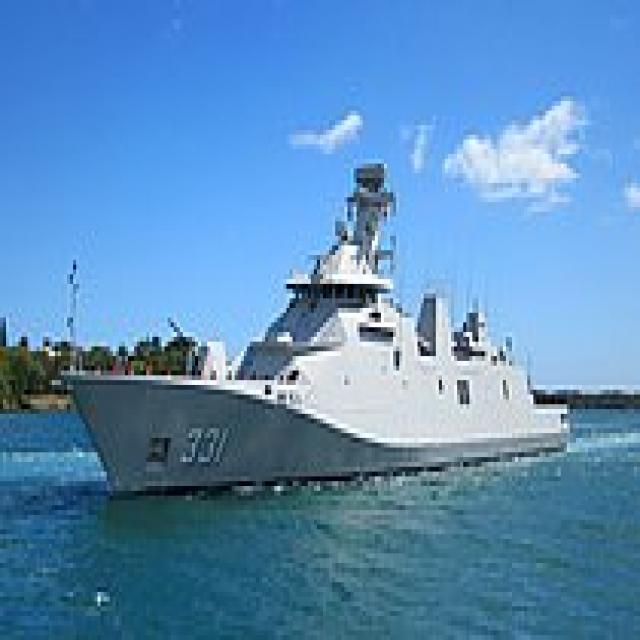Warship: (58, 149, 567, 491)
